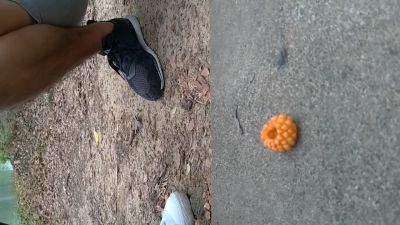eggs: (261, 113, 298, 153)
